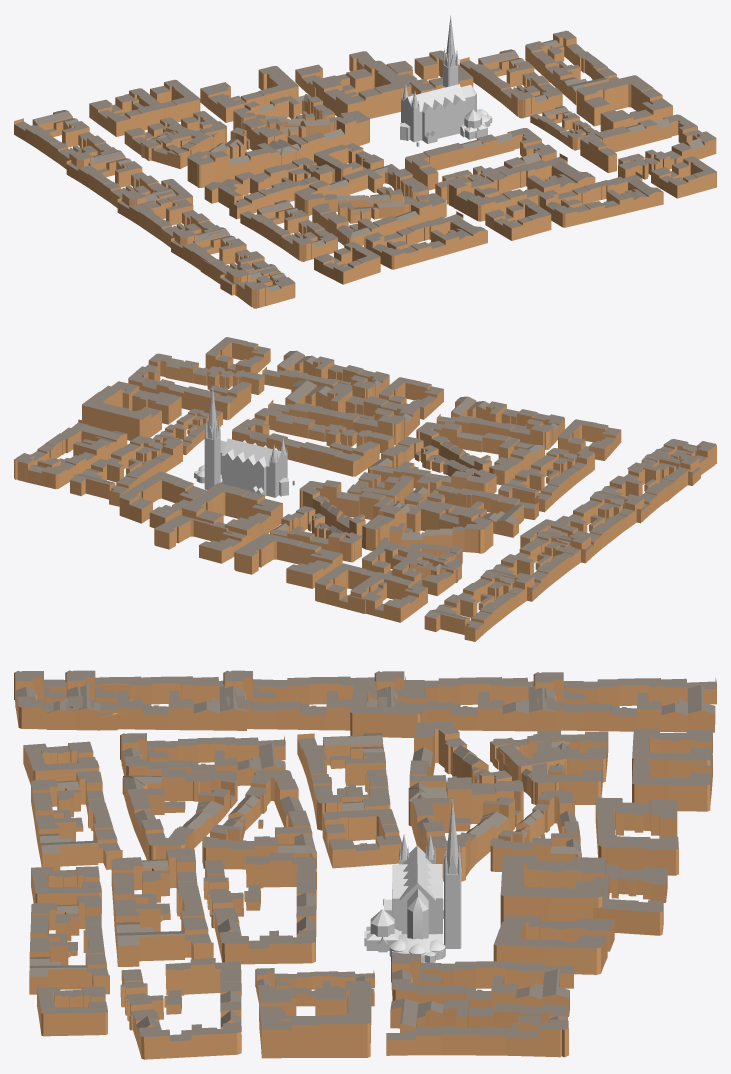
The model's file is MapV2.fbx.
3 views of the same model, one above another, from view 1: azimuth 30°, elevation 25°; view 2: azimuth 150°, elevation 25°; view 3: azimuth 270°, elevation 25° (orthographic). The views are drawn at different scales.
Visible parts, largest first — view 1: RectangleBlock.004, Block/w/center.001, Church, RectangleBlock.006, Block/w/center, RectangleBlock.008, RectangleBlock, RectangleBlock.003, TriangleBlock.001, RectangleBlock.001, SquareBlock.010, TriangleBlock (+21 smaller); view 2: RectangleBlock.004, Block/w/center, RectangleBlock.006, Block/w/center.001, Church, RectangleBlock.007, RectangleBlock.001, TriangleBlock.003, TriangleBlock.001, SquareBlock.010, TriangleBlock.004, RectangleBlock.003 (+21 smaller); view 3: RectangleBlock.004, RectangleBlock.007, RectangleBlock.006, Church, Block/w/center.001, Block/w/center, RectangleBlock.001, SquareBlock.010, TriangleBlock.001, RectangleBlock.003, TriangleBlock, RectangleBlock.008 (+21 smaller).
Part boxes in pixels (box(x1,y1,x2,y2)): RectangleBlock.004: box(14, 110, 295, 308); Block/w/center.001: box(580, 114, 716, 179); Church: box(400, 15, 492, 143); RectangleBlock.006: box(447, 153, 595, 221); Block/w/center: box(405, 128, 556, 200); RectangleBlock.008: box(538, 172, 663, 227); RectangleBlock: box(204, 157, 334, 219); RectangleBlock.003: box(364, 211, 487, 269); TriangleBlock.001: box(312, 193, 446, 245); RectangleBlock.001: box(459, 49, 562, 118); SquareBlock.010: box(576, 75, 672, 131); TriangleBlock: box(294, 164, 428, 215); RectangleBlock.004: box(424, 439, 716, 641); Block/w/center: box(232, 408, 394, 476); RectangleBlock.006: box(268, 380, 419, 445); Block/w/center.001: box(128, 353, 264, 419); Church: box(194, 386, 288, 497); RectangleBlock.007: box(14, 419, 127, 489); RectangleBlock.001: box(70, 436, 182, 506); TriangleBlock.003: box(299, 480, 415, 550); TriangleBlock.001: box(416, 422, 544, 485); SquareBlock.010: box(82, 381, 181, 440); TriangleBlock.004: box(366, 501, 493, 553); RectangleBlock.003: box(436, 396, 564, 449); RectangleBlock.004: box(14, 670, 716, 732); RectangleBlock.007: box(386, 998, 568, 1057); RectangleBlock.006: box(111, 848, 213, 966); Church: box(364, 797, 461, 962); Block/w/center.001: box(120, 958, 241, 1059); Block/w/center: box(203, 852, 316, 964); RectangleBlock.001: box(391, 953, 573, 1016); SquareBlock.010: box(259, 981, 371, 1058); TriangleBlock.001: box(122, 768, 237, 860); RectangleBlock.003: box(31, 770, 122, 870); TriangleBlock: box(202, 770, 316, 869); RectangleBlock.008: box(29, 895, 109, 994).
Bounding box in the file's own units: 22317 × 4303 × 18132.
